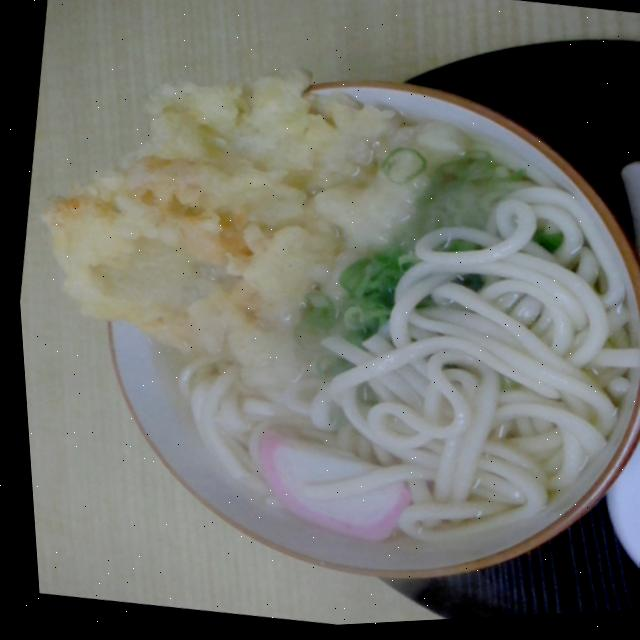面条主食: (8, 37, 640, 594)
